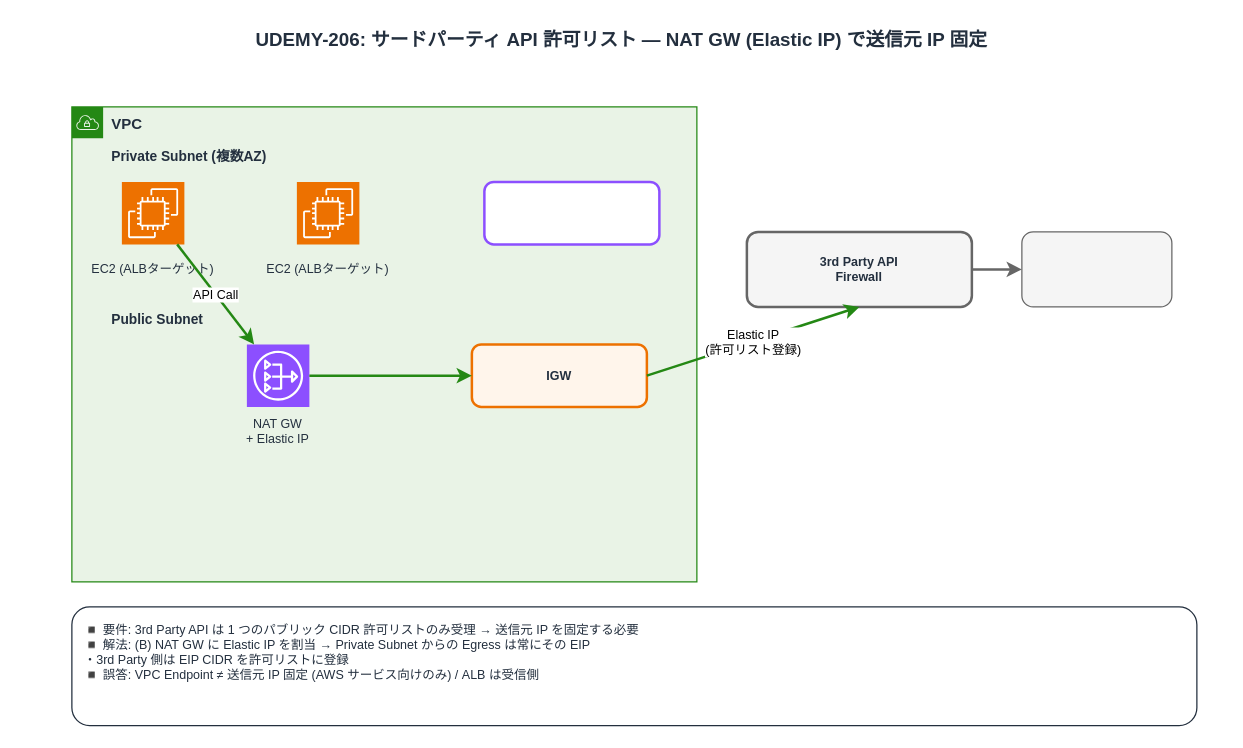
This 1243x748 diagram has some shape labels left out. The shapes that lost their labels are listed below. From the top down, each one's box as (x1, y1, x2, y2) in pixels, then its label:
(482, 180, 660, 245): ALB
(1021, 231, 1172, 307): API Backend
